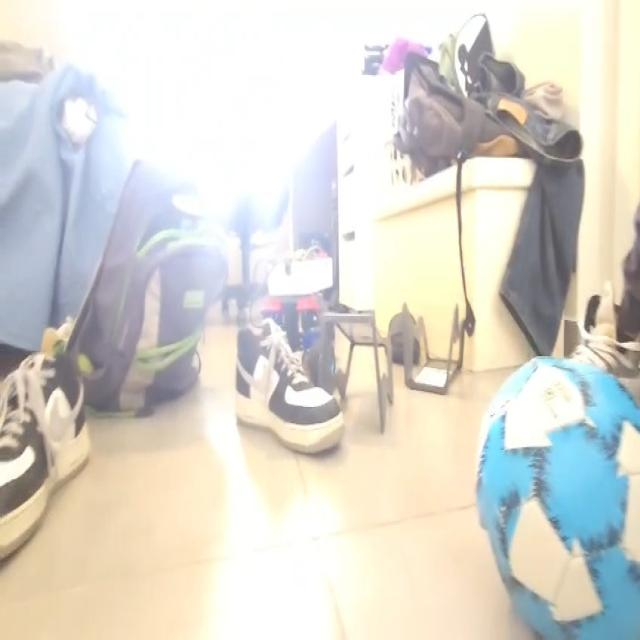Robot: (258, 252, 336, 377)
